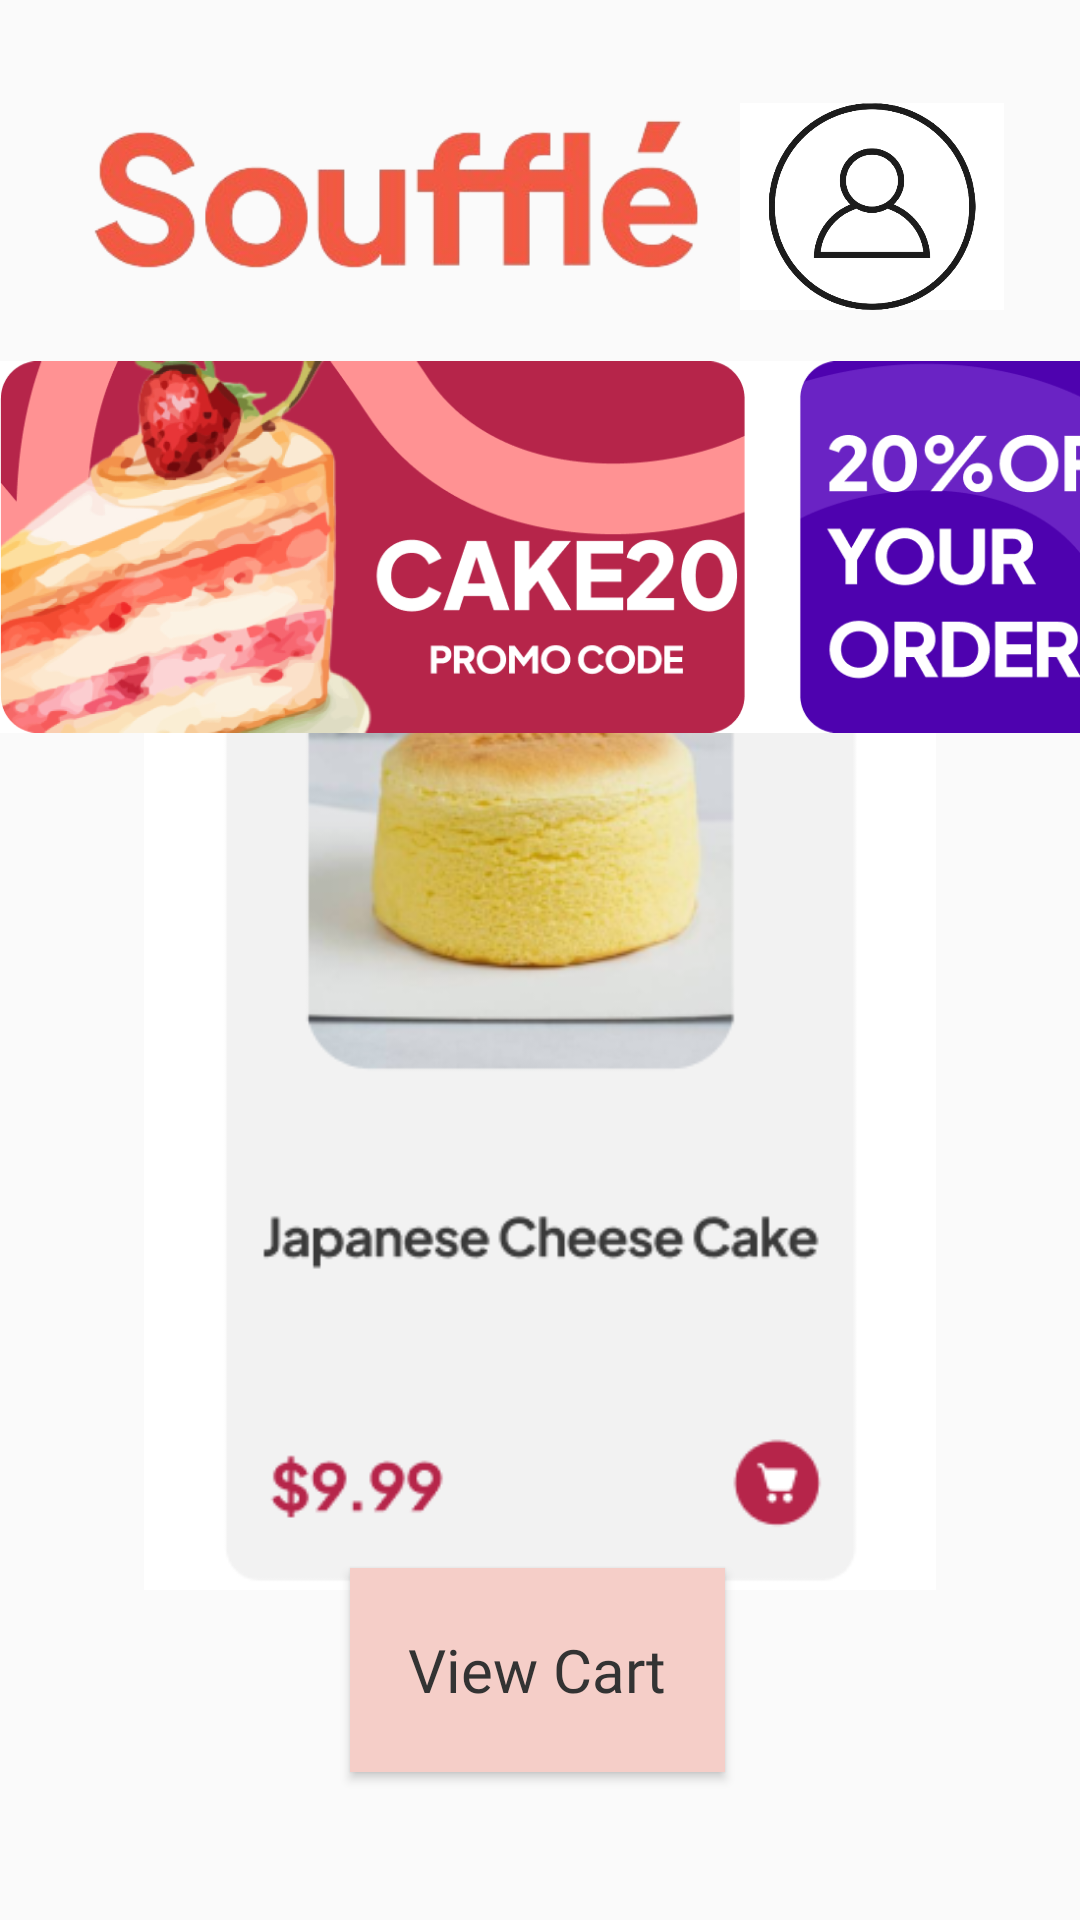

Point at icon controls on the screen. Image size 1080 × 1920, points as point (x, y).
user circle lmkqor: point (872, 206)
